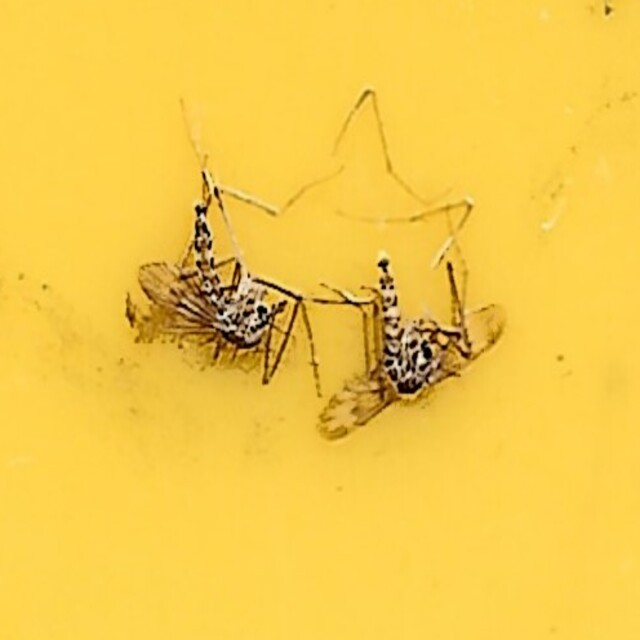Nematocera: (316, 259, 511, 453), (129, 187, 284, 366)
